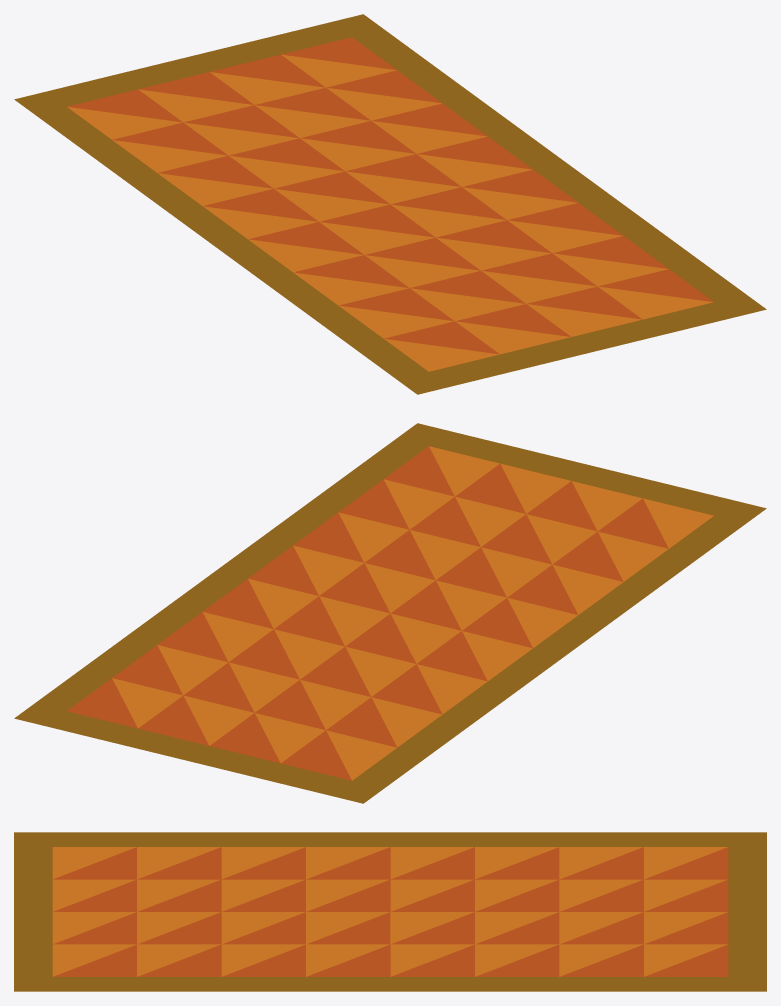
File: carpet_01.fbx
The picture shows the model from 3 angles, top to bottom: view 1: azimuth 30°, elevation 25°; view 2: azimuth 150°, elevation 25°; view 3: azimuth 270°, elevation 25°; orthographic projection. The views are drawn at different scales.
Parts seen in each view (by area): view 1: carpet_01; view 2: carpet_01; view 3: carpet_01.
Boxes of the visible parts, x1,y1,x2,y2 form: carpet_01: (14, 14, 766, 394); carpet_01: (14, 423, 766, 803); carpet_01: (14, 832, 766, 991).
Bounding box in the file's own units: 200 × 4.44e-14 × 400.
1 material, 1 textured.
